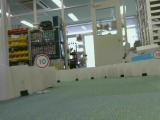speed_10: (34, 53, 50, 69)
